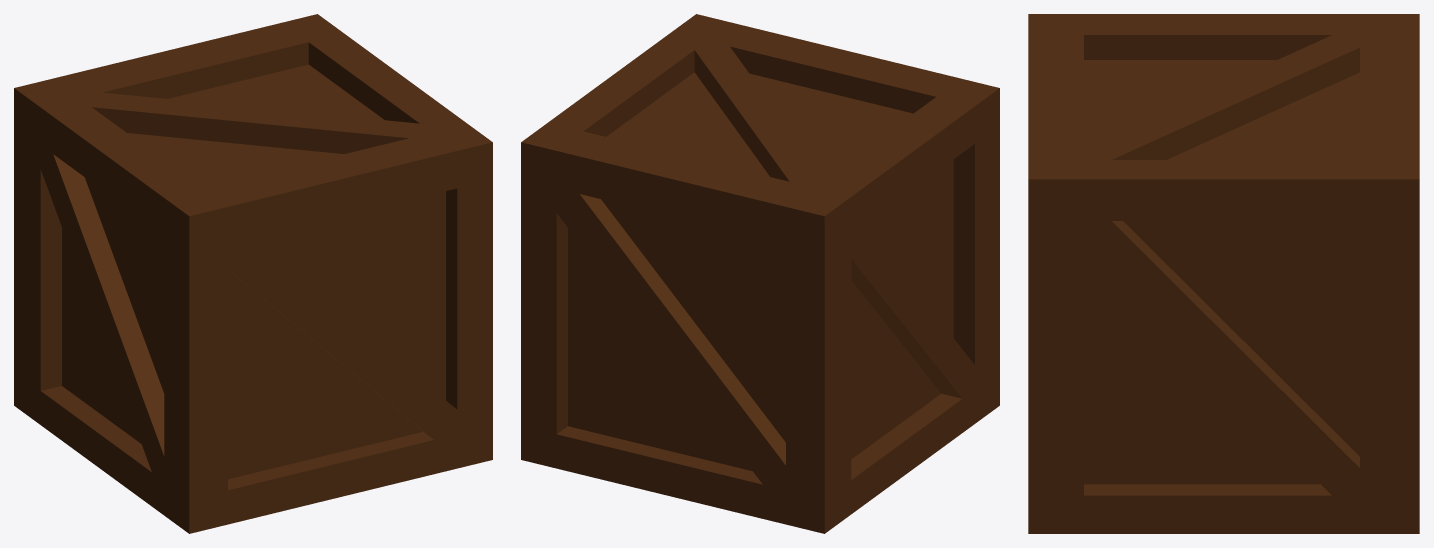
The model's file is DestroyedCrateMesh.fbx.
The picture shows the model from 3 angles, left to right: view 1: azimuth 30°, elevation 25°; view 2: azimuth 150°, elevation 25°; view 3: azimuth 270°, elevation 25°; orthographic projection. The views are drawn at different scales.
Parts seen in each view (by area): view 1: polySurface16, polySurface18, polySurface15, polySurface7, polySurface3, polySurface43, polySurface6, polySurface10, polySurface67, polySurface52, polySurface46, polySurface47 (+8 smaller); view 2: polySurface14, polySurface18, polySurface15, polySurface5, polySurface9, polySurface45, polySurface10, polySurface6, polySurface11, polySurface1, polySurface46, polySurface47 (+9 smaller); view 3: polySurface17, polySurface15, polySurface8, polySurface4, polySurface44, polySurface1, polySurface11, polySurface47, polySurface49, polySurface28, polySurface55, polySurface37.
Part boxes in pixels (x1,y1,x2,y2): polySurface16: (189, 142, 492, 533); polySurface18: (14, 88, 189, 533); polySurface15: (14, 14, 492, 216); polySurface7: (228, 270, 422, 479); polySurface3: (251, 191, 445, 399); polySurface43: (228, 239, 457, 439); polySurface6: (85, 177, 164, 393); polySurface10: (62, 228, 141, 443); polySurface67: (53, 154, 164, 455); polySurface52: (92, 107, 408, 153); polySurface46: (40, 145, 164, 480); polySurface47: (80, 92, 431, 138); polySurface14: (521, 142, 824, 533); polySurface18: (824, 88, 999, 533); polySurface15: (521, 14, 999, 216); polySurface5: (601, 199, 785, 442); polySurface9: (568, 228, 752, 470); polySurface45: (556, 188, 785, 490); polySurface10: (851, 280, 940, 459); polySurface6: (864, 159, 953, 337); polySurface11: (750, 73, 913, 177); polySurface1: (606, 72, 769, 176); polySurface46: (851, 225, 974, 398); polySurface47: (695, 41, 824, 187); polySurface17: (1028, 179, 1419, 533); polySurface15: (1028, 14, 1419, 179); polySurface8: (1084, 249, 1320, 484); polySurface4: (1123, 221, 1359, 456); polySurface44: (1084, 221, 1359, 495); polySurface1: (1167, 72, 1359, 159); polySurface11: (1084, 60, 1276, 147); polySurface47: (1084, 35, 1359, 159); polySurface49: (1112, 47, 1359, 159); polySurface28: (1084, 35, 1331, 59); polySurface55: (1112, 221, 1359, 467); polySurface37: (1084, 484, 1331, 495).
Size of the model in its own units: 61.17 by 61.17 by 61.17.
